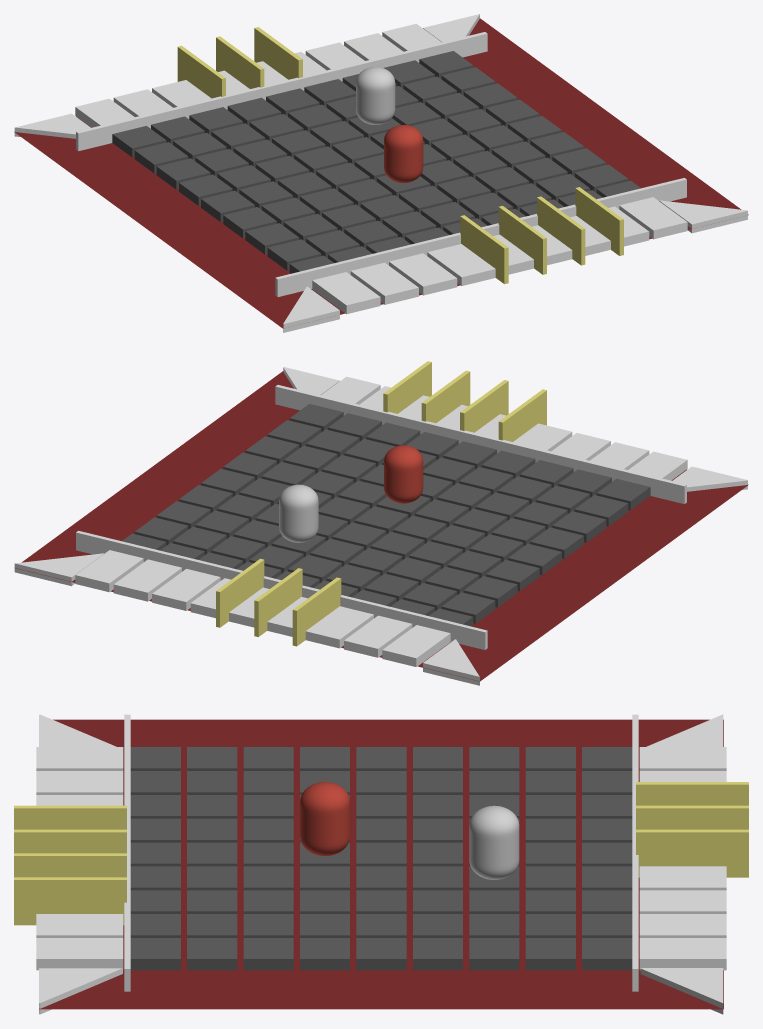
Rendered from Board.fbx.
3 renders of one model, top to bottom at view 1: azimuth 30°, elevation 25°; view 2: azimuth 150°, elevation 25°; view 3: azimuth 270°, elevation 25°, orthographic. The views are drawn at different scales.
Visible parts, largest first — view 1: Board, BottomSlabs, TopSlabs, BoundaryBottom, BoundaryTop, Player2, Player1, Wall_3, Wall_1, Wall_2, Wall, BottomRightTriangle (+72 smaller); view 2: Board, TopSlabs, BottomSlabs, BoundaryTop, BoundaryBottom, Player1, Player2, Wall_3_3, Wall_3_4, Wall_3_2, TopLRightTriangle, Wall_1 (+72 smaller); view 3: Board, TopSlabs, BottomSlabs, Wall_3_2, Wall_2, Player1, Player2, Wall_3, Wall_1, Wall, Wall_3_4, Wall_3_3 (+83 smaller).
Boxes of the visible parts, x1,y1,x2,y2 form: Board: [14, 18, 748, 328]; BottomSlabs: [312, 197, 687, 314]; TopSlabs: [75, 23, 441, 127]; BoundaryBottom: [76, 32, 487, 151]; BoundaryTop: [275, 178, 686, 296]; Player2: [384, 125, 423, 182]; Player1: [356, 67, 395, 124]; Wall_3: [460, 215, 508, 284]; Wall_1: [537, 196, 585, 265]; Wall_2: [575, 187, 623, 255]; Wall: [498, 205, 546, 274]; BottomRightTriangle: [659, 200, 747, 233]; Board: [15, 371, 748, 681]; TopSlabs: [75, 550, 450, 666]; BottomSlabs: [321, 376, 687, 480]; BoundaryTop: [275, 385, 686, 503]; BoundaryBottom: [76, 530, 487, 649]; Player1: [279, 484, 318, 542]; Player2: [384, 445, 423, 503]; Wall_3_3: [292, 577, 341, 646]; Wall_3_4: [254, 568, 302, 636]; Wall_3_2: [216, 558, 264, 627]; TopLRightTriangle: [14, 553, 103, 586]; Wall_1: [421, 370, 470, 423]; Board: [39, 719, 723, 1009]; TopSlabs: [639, 747, 726, 970]; BottomSlabs: [36, 747, 123, 970]; Wall_3_2: [636, 829, 748, 877]; Wall_2: [14, 877, 126, 925]; Player1: [469, 805, 519, 879]; Player2: [300, 782, 349, 855]; Wall_3: [14, 805, 126, 829]; Wall_1: [14, 853, 126, 877]; Wall: [14, 829, 126, 853]; Wall_3_4: [636, 805, 748, 829]; Wall_3_3: [636, 782, 748, 805].
Size of the model in its own units: 546 by 75 by 586.
